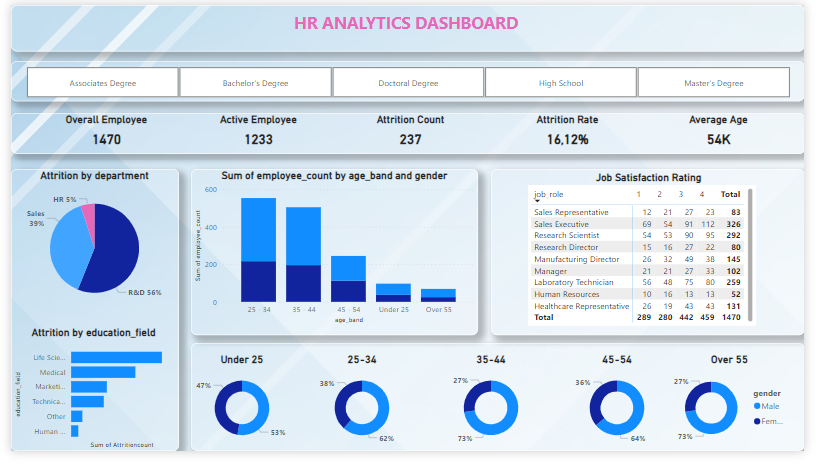

The page's visual inventory and layout, read from the dashboard file:
{"tool":"powerbi","page":{"name":"Page 2","canvas":[1280,720],"ordinal":0},"visuals":[{"type":"textbox","box":[0,0,1279.8,75.1],"z":0},{"type":"textbox","box":[0,90.7,1279.8,65.2],"z":1000},{"type":"slicer","fields":{"Values":["hrdata.education"]},"box":[0,93.5,1279.8,62.4],"z":2000},{"type":"textbox","box":[0,264.5,271,454.8],"z":3000},{"type":"pieChart","title":"Attrition by department","fields":{"Category":["hrdata.department"],"Y":["Sum(hrdata.Attritioncount)"]},"box":[7.1,265,256.5,236.7],"z":4000},{"type":"barChart","title":"Attrition by education_field","fields":{"Y":["Sum(hrdata.Attritioncount)"],"Category":["hrdata.education_field"]},"box":[0,517.3,266.5,202.7],"z":5000},{"type":"textbox","box":[290.3,264.5,462.9,267.7],"z":6000},{"type":"columnChart","fields":{"Series":["hrdata.gender"],"Category":["hrdata.age_band"],"Y":["Sum(hrdata.employee_count)"]},"box":[290.3,264.5,462.9,253.2],"z":7000},{"type":"pivotTable","fields":{"Rows":["hrdata.job_role"],"Columns":["hrdata.job_satisfaction"],"Values":["Sum(hrdata.employee_count)"]},"box":[833.9,290.3,367.7,227.4],"z":8000},{"type":"donutChart","title":"35-44","fields":{"Category":["hrdata.gender"],"Y":["Sum(hrdata.Attritioncount)"],"Series":["hrdata.age_band"]},"box":[695.2,561.3,158.1,158.1],"z":9000},{"type":"donutChart","title":" 25-34","fields":{"Category":["hrdata.gender"],"Y":["Sum(hrdata.Attritioncount)"],"Series":["hrdata.age_band"]},"box":[487.1,561.3,158.1,158.1],"z":10000},{"type":"donutChart","title":"45-54","fields":{"Category":["hrdata.gender"],"Y":["Sum(hrdata.Attritioncount)"],"Series":["hrdata.age_band"]},"box":[898.4,561.3,158.1,158.1],"z":11000},{"type":"donutChart","title":"Under 25","fields":{"Category":["hrdata.gender"],"Y":["Sum(hrdata.Attritioncount)"],"Series":["hrdata.age_band"]},"box":[293.5,561.3,158.1,158.1],"z":12000},{"type":"donutChart","title":"Over 55","fields":{"Category":["hrdata.gender"],"Y":["Sum(hrdata.Attritioncount)"],"Series":["hrdata.age_band"]},"box":[1056.5,561.3,204.8,158.1],"z":13000},{"type":"textbox","title":"Job Satisfaction Rating ","box":[774.2,264.5,506.5,267.7],"z":14000},{"type":"textbox","box":[290.3,545.2,990.3,174.2],"z":15000},{"type":"card","title":"Overall Employee","fields":{"Values":["Sum(hrdata.employee_count)"]},"box":[45.2,174.2,217.7,66.1],"z":16000},{"type":"card","title":"Attrition Count","fields":{"Values":["Sum(hrdata.Attritioncount)"]},"box":[535.5,174.2,217.7,66.1],"z":17000},{"type":"card","title":"Average Age ","fields":{"Values":["Sum(hrdata.age)"]},"box":[1032.3,174.2,217.7,66.1],"z":18000},{"type":"card","title":"Active Employee","fields":{"Values":["Sum(hrdata.active_employee)"]},"box":[290.3,174.2,217.7,66.1],"z":19000},{"type":"card","title":"Attrition Rate","fields":{"Values":["hrdata.Attrition Rate"]},"box":[788.7,174.2,217.7,66.1],"z":20000},{"type":"textbox","box":[0,174.2,1280.6,66.1],"z":21000}]}

Visuals, with their boxes in screenshot pixels (x1, y1, x2, y2), scaled from the page's 1280x720 canvas onto the 818x467 screenshot:
textbox: (x1=0, y1=0, x2=817, y2=49)
textbox: (x1=0, y1=59, x2=817, y2=101)
slicer - hrdata.education: (x1=0, y1=61, x2=817, y2=101)
textbox: (x1=0, y1=172, x2=173, y2=466)
"Attrition by department" pieChart: (x1=5, y1=172, x2=168, y2=325)
"Attrition by education_field" barChart: (x1=0, y1=336, x2=170, y2=466)
textbox: (x1=186, y1=172, x2=481, y2=345)
columnChart - hrdata.gender x hrdata.age_band: (x1=186, y1=172, x2=481, y2=336)
pivotTable - hrdata.job_role x hrdata.job_satisfaction: (x1=533, y1=188, x2=768, y2=336)
"35-44" donutChart: (x1=444, y1=364, x2=545, y2=466)
" 25-34" donutChart: (x1=311, y1=364, x2=412, y2=466)
"45-54" donutChart: (x1=574, y1=364, x2=675, y2=466)
"Under 25" donutChart: (x1=188, y1=364, x2=289, y2=466)
"Over 55" donutChart: (x1=675, y1=364, x2=806, y2=466)
"Job Satisfaction Rating " textbox: (x1=495, y1=172, x2=817, y2=345)
textbox: (x1=186, y1=354, x2=817, y2=466)
"Overall Employee" card: (x1=29, y1=113, x2=168, y2=156)
"Attrition Count" card: (x1=342, y1=113, x2=481, y2=156)
"Average Age " card: (x1=660, y1=113, x2=799, y2=156)
"Active Employee" card: (x1=186, y1=113, x2=325, y2=156)
"Attrition Rate" card: (x1=504, y1=113, x2=643, y2=156)
textbox: (x1=0, y1=113, x2=817, y2=156)
